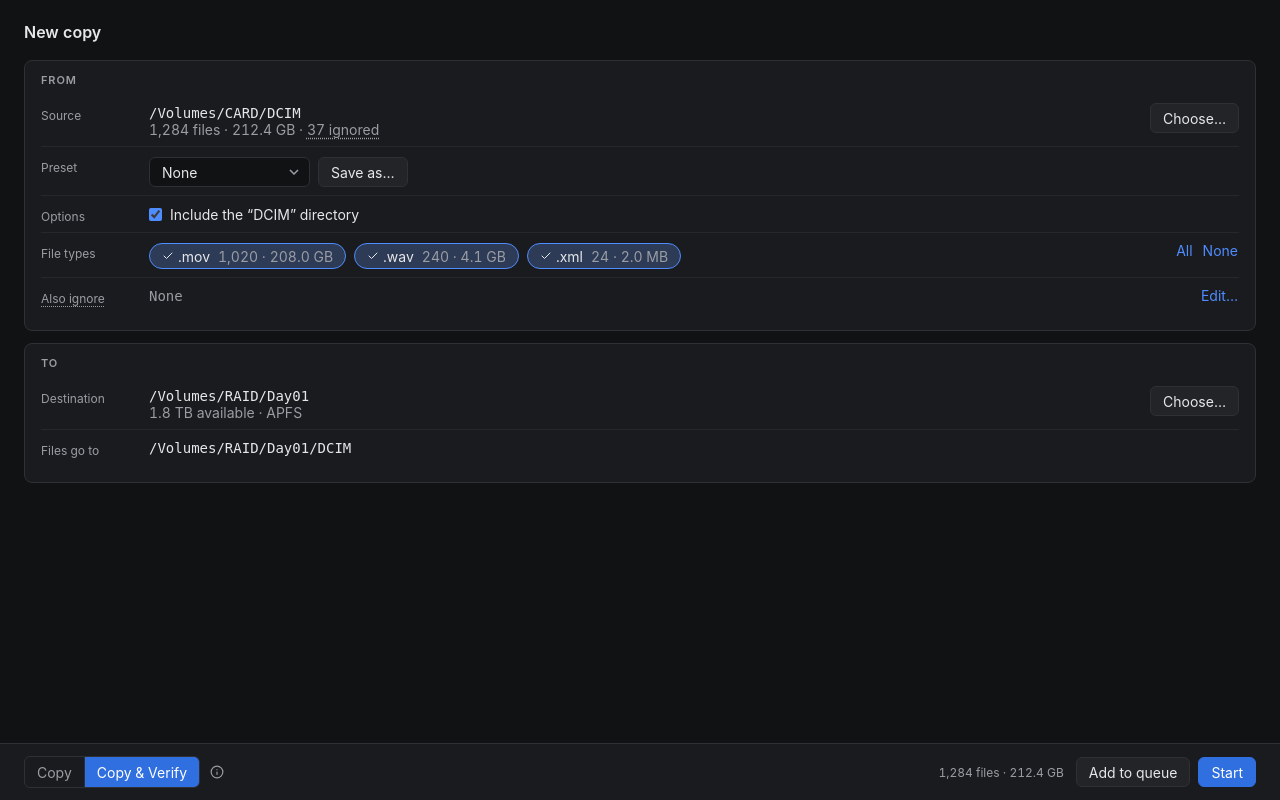
Scenario: Setup › choosing another preset drops Save as… and its error
The width and height of the screenshot is (1280, 800).
Click the button "Save as…" at (363, 172), box left=318, top=157, right=408, bottom=187
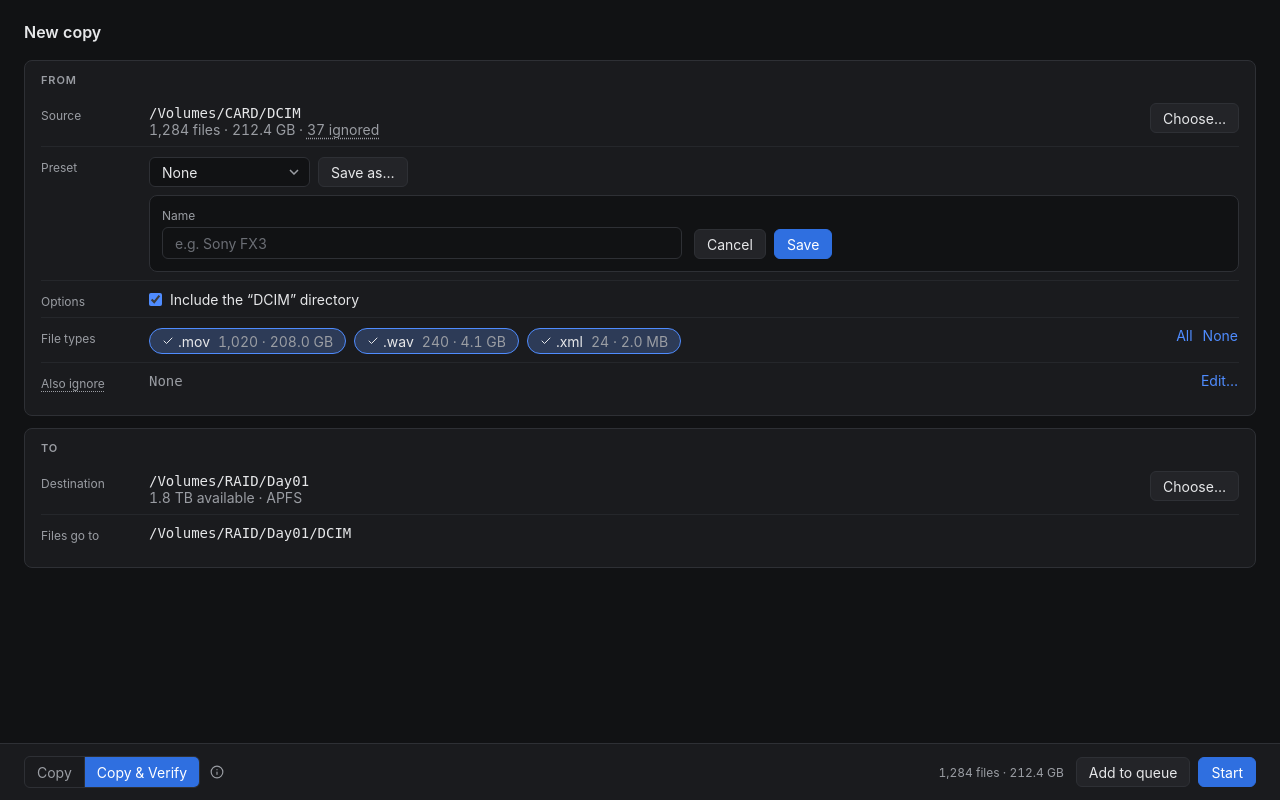
Click the button "Save" at (803, 244), box left=774, top=229, right=832, bottom=259
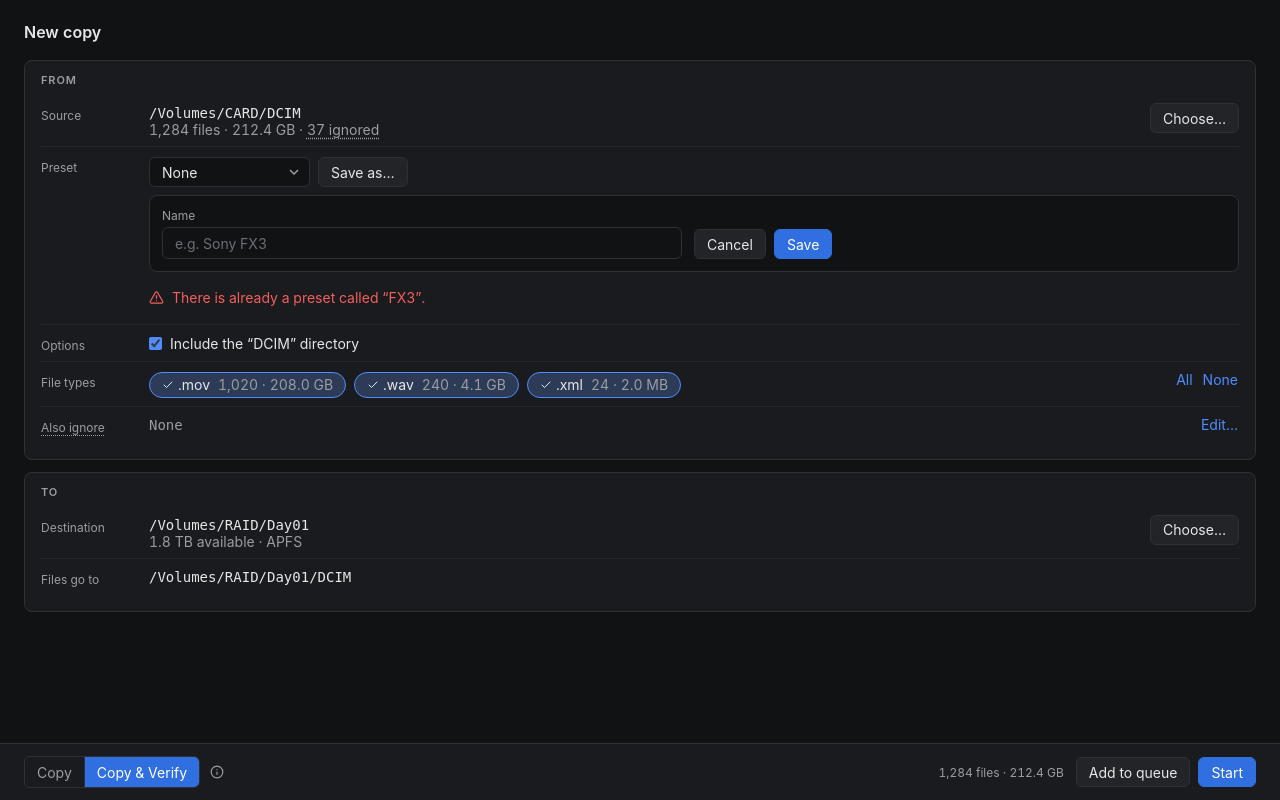
Check: the text "There is already a preset called “FX3”." is shown, box left=172, top=288, right=425, bottom=308
Select "Sony FX3" in the dropdown named "Preset" at (230, 172), box left=149, top=157, right=310, bottom=187
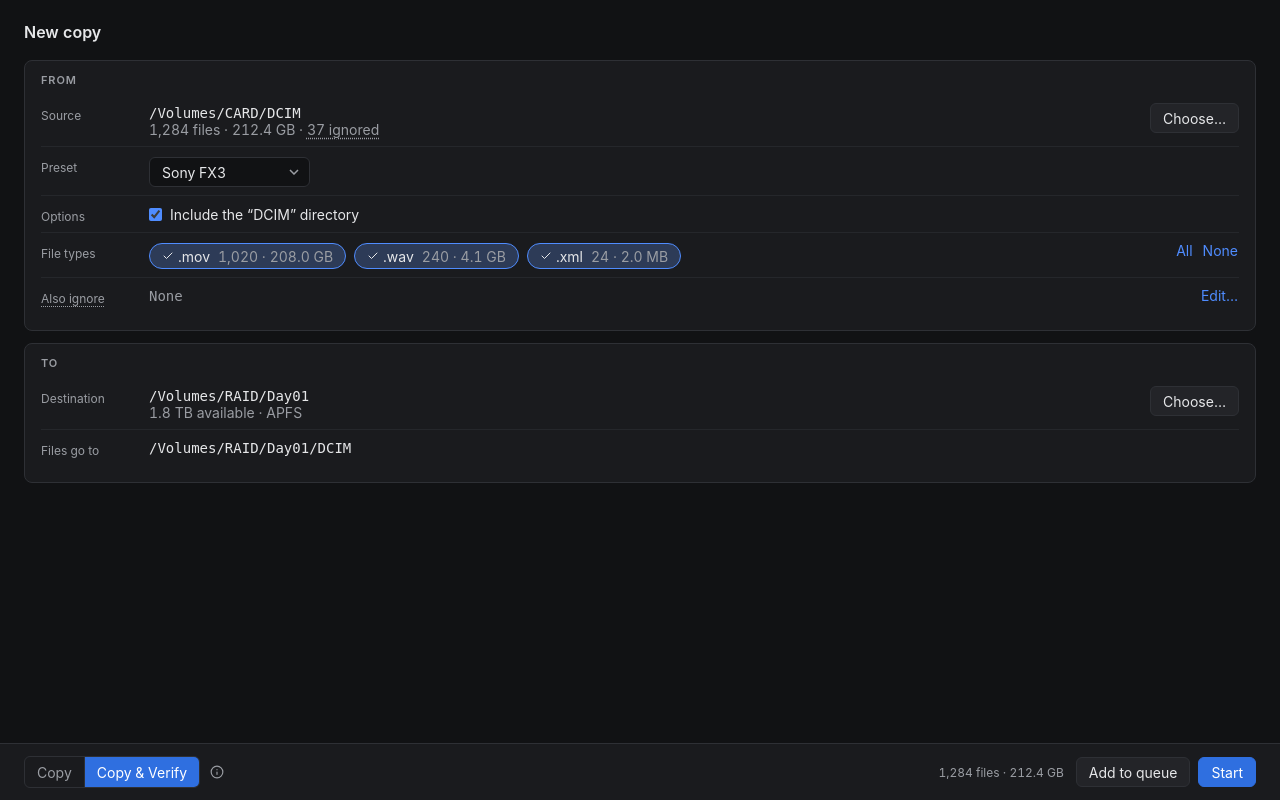
Check: the text "There is already a preset called “FX3”." is gone
Check: the label "Name" is gone
